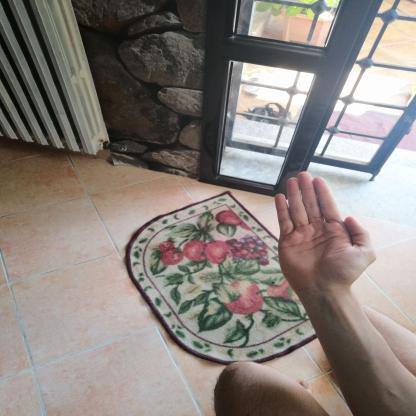SEEN: (261, 165, 384, 302)
